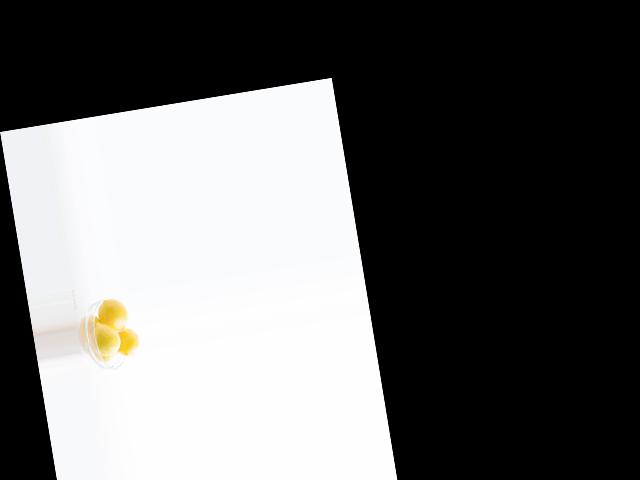lemon: (100, 294, 130, 334)
